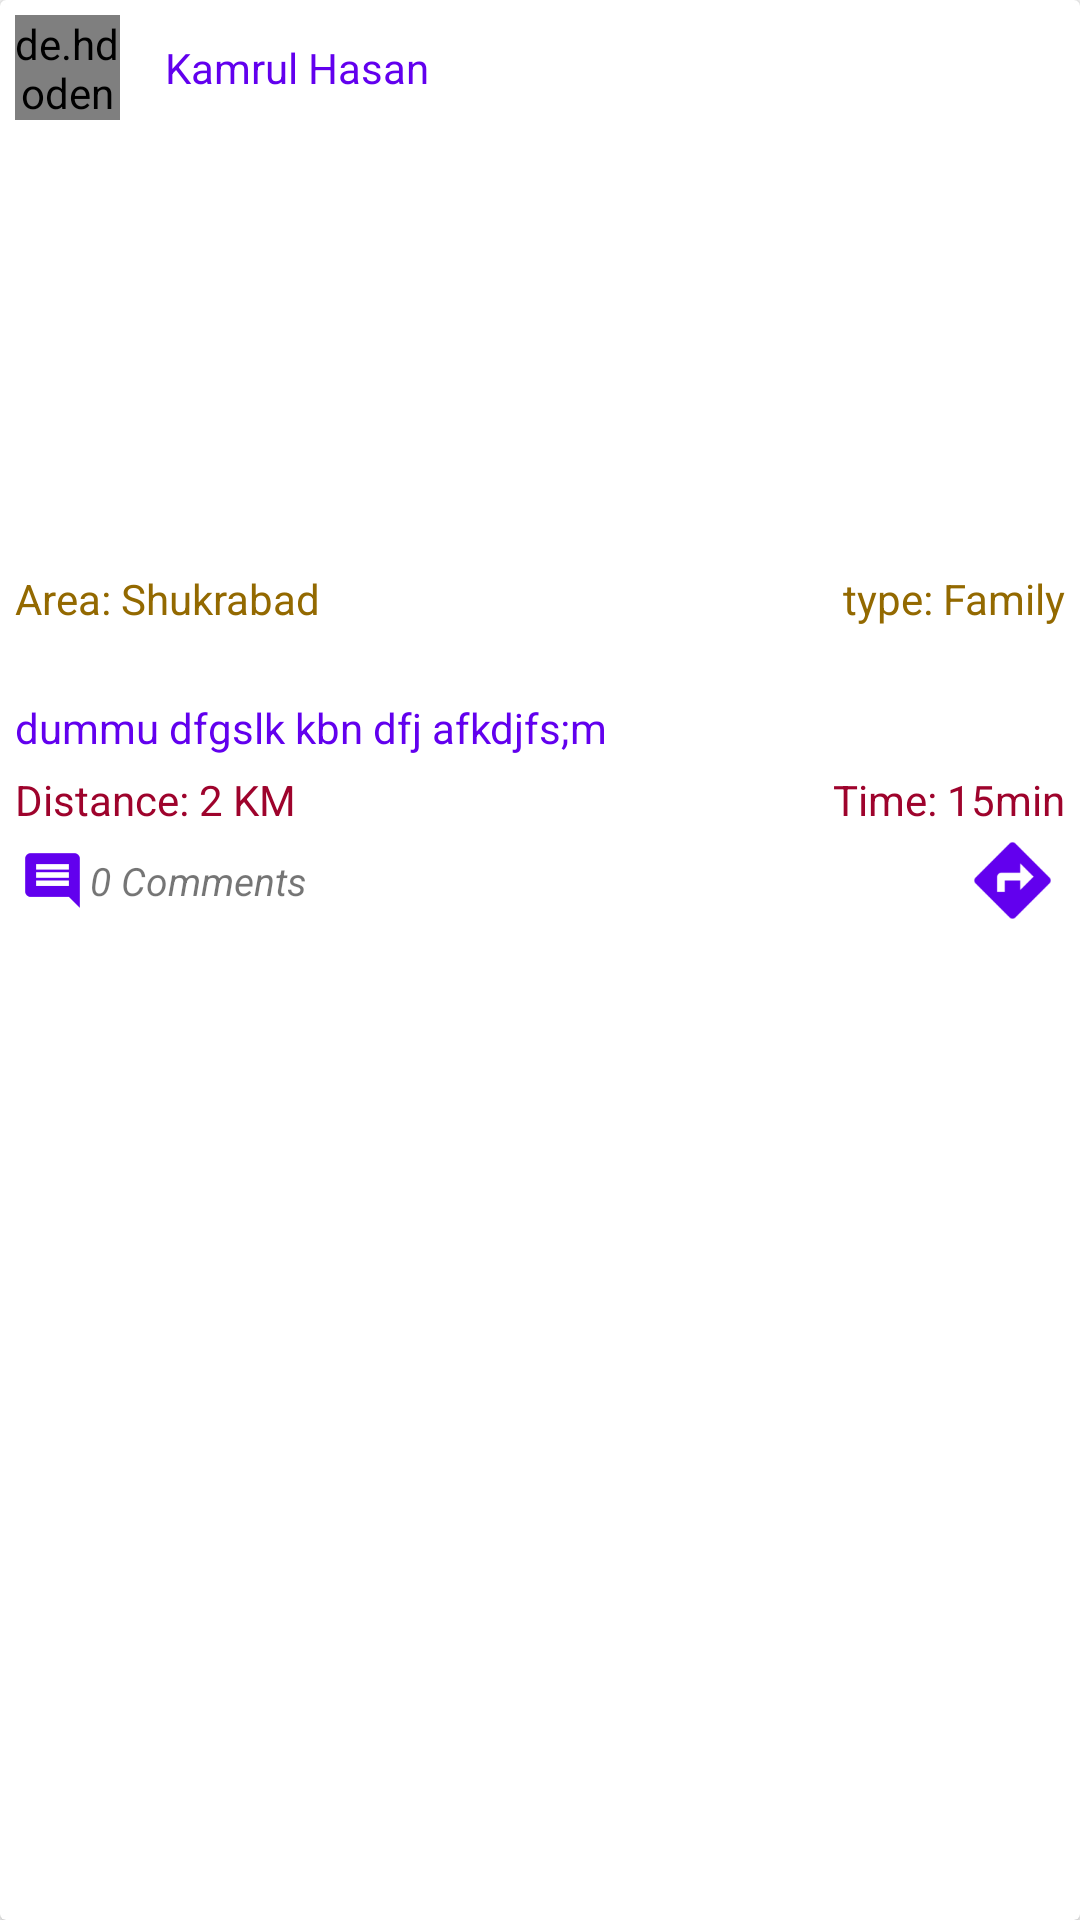

Where icons sit on this 1080px×1920px app screen, as (x1, y1, x2, y2):
direction: (974, 842, 1051, 919)
